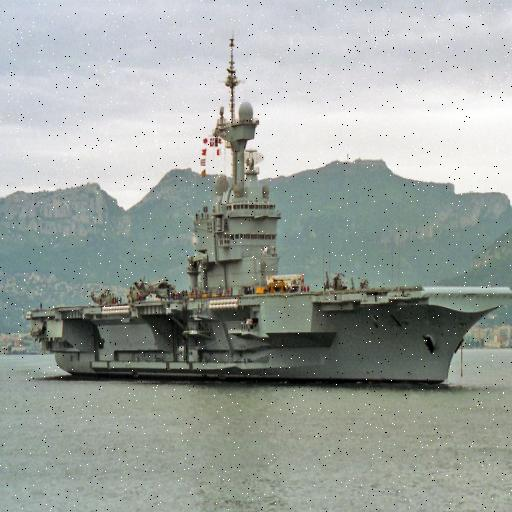Portanaves: (20, 29, 512, 397)
